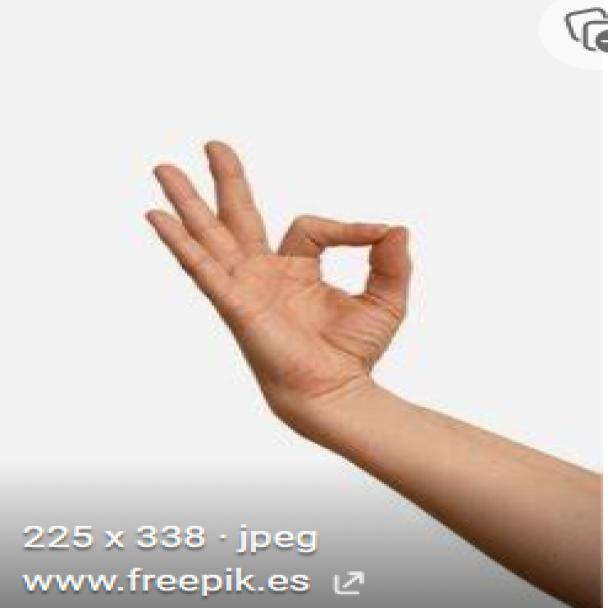five: (140, 138, 420, 424)
